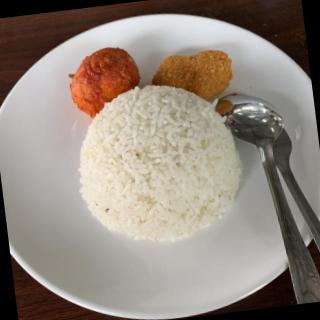Nasi: (69, 77, 252, 254)
